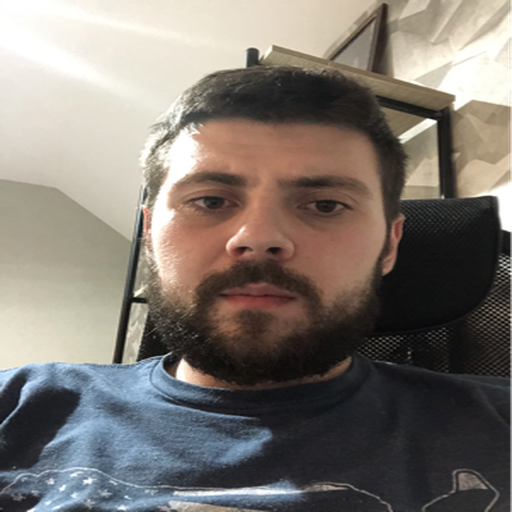person: (165, 151, 359, 347)
